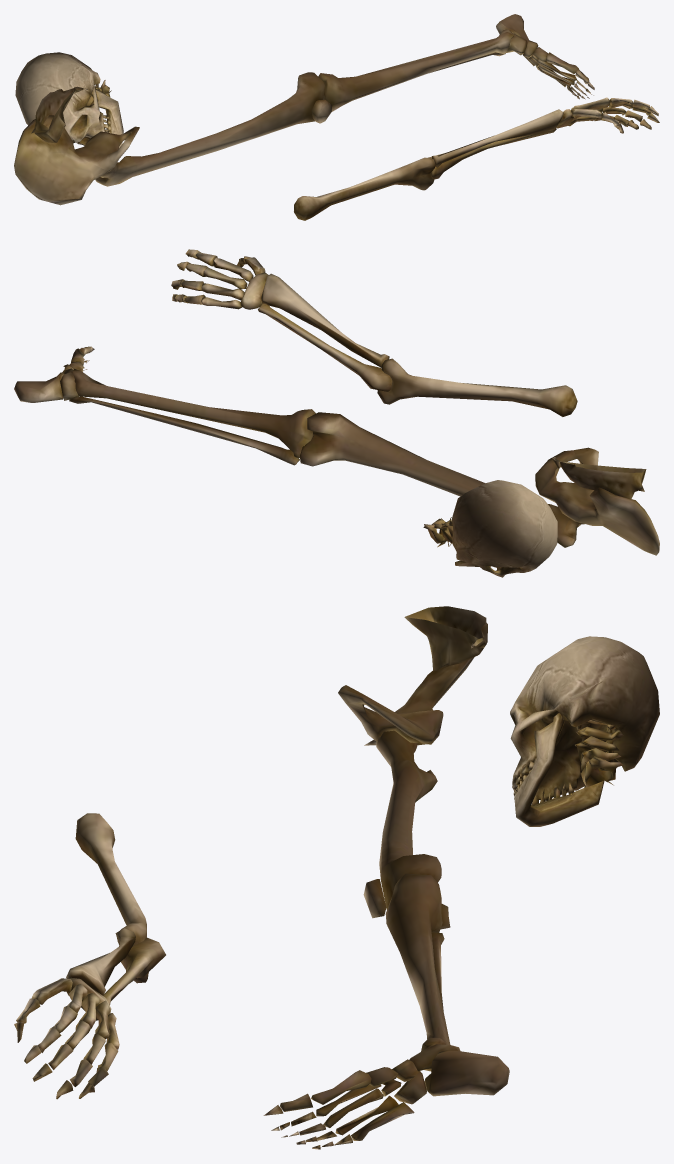
3 renders of one model, top to bottom at view 1: azimuth 30°, elevation 25°; view 2: azimuth 150°, elevation 25°; view 3: azimuth 270°, elevation 25°, orthographic. The views are drawn at different scales.
Visible parts, largest first — view 1: skeleton.2; view 2: skeleton.2; view 3: skeleton.2.
Part boxes in pixels (left/top/right/bottom): skeleton.2: left=14, top=14, right=659, bottom=220; skeleton.2: left=14, top=249, right=659, bottom=577; skeleton.2: left=14, top=606, right=659, bottom=1149.
Bounding box in the file's own units: 1.56 × 0.2539 × 0.9915.
Materials: 1 (1 with a texture image).
